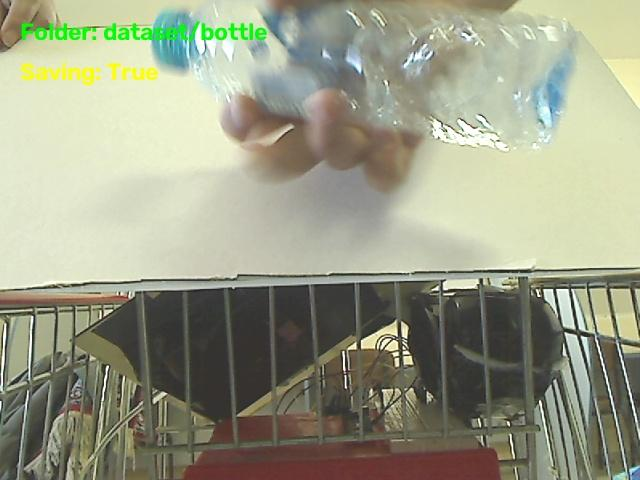Bottle: (124, 0, 574, 150)
